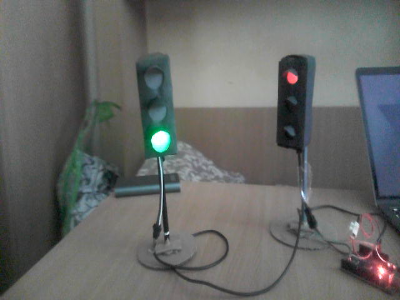trafficlight_green: (138, 62, 175, 155)
trafficlight_red: (276, 58, 306, 146)
